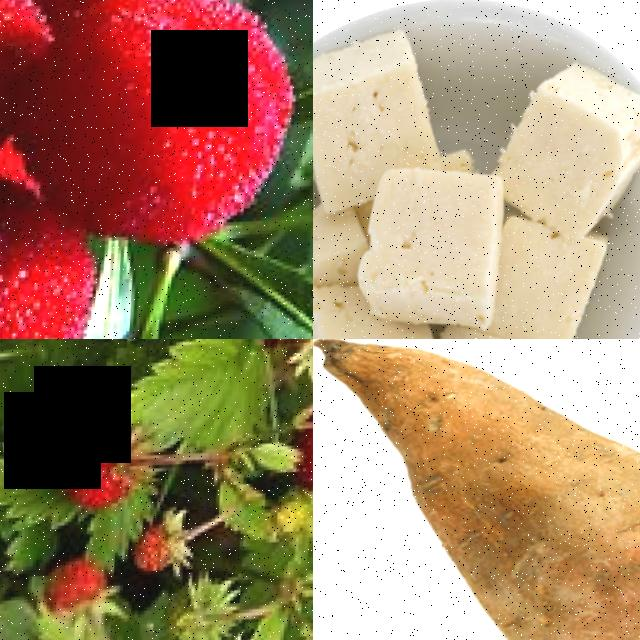strawberry: (49, 418, 148, 518), (296, 404, 313, 506)
sweet potato: (313, 339, 640, 640)
tofu: (347, 156, 507, 339), (491, 63, 640, 246), (313, 26, 440, 179), (313, 205, 362, 301)
